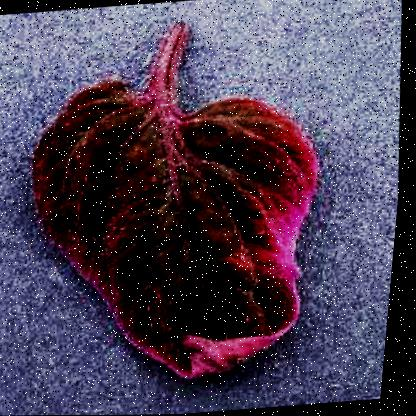Virus: (8, 14, 357, 396)
